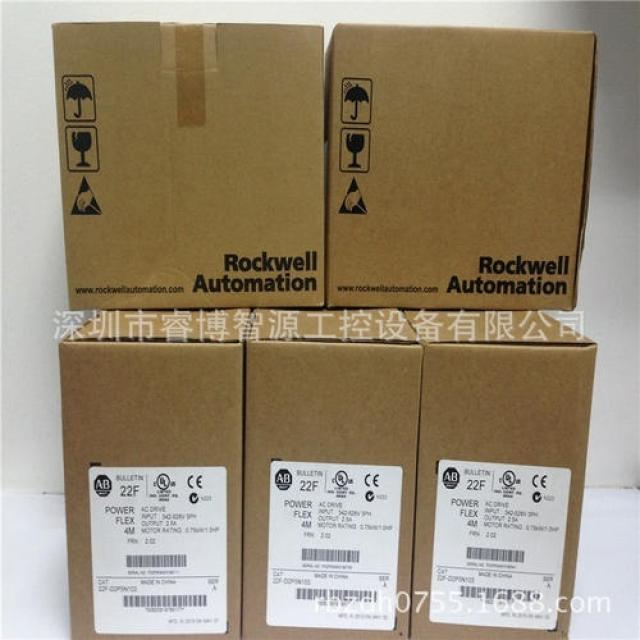box: (51, 25, 326, 313), (324, 24, 594, 309), (401, 307, 597, 636), (61, 309, 253, 639), (242, 308, 422, 637)
